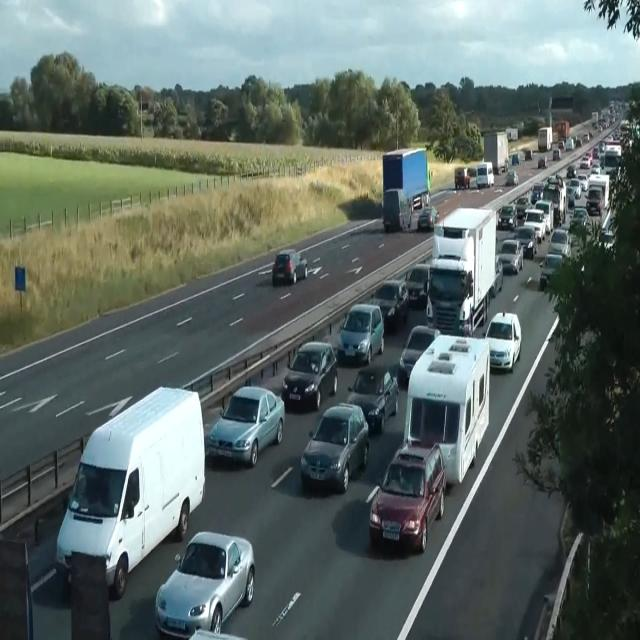bus: (155, 531, 255, 639), (368, 439, 446, 554), (205, 385, 285, 467), (300, 402, 370, 493), (282, 340, 338, 410), (347, 368, 399, 433), (337, 303, 384, 365), (398, 324, 441, 384), (484, 310, 522, 372), (370, 279, 410, 329), (272, 250, 308, 285), (404, 263, 431, 308), (496, 238, 524, 275), (596, 208, 616, 257), (539, 252, 563, 290), (522, 208, 546, 243), (514, 225, 538, 259), (534, 199, 554, 234), (548, 228, 570, 258), (188, 628, 248, 639), (417, 205, 439, 231), (569, 206, 591, 232), (497, 203, 517, 230), (586, 187, 604, 216), (490, 255, 502, 297), (567, 235, 583, 261), (516, 195, 530, 218), (530, 182, 544, 204), (568, 178, 582, 199), (577, 172, 589, 191), (504, 170, 518, 186), (566, 186, 574, 208), (580, 155, 590, 169), (566, 164, 576, 178), (510, 152, 520, 165), (590, 163, 601, 174), (538, 156, 548, 168), (552, 148, 560, 160), (524, 148, 532, 160)
minibus: (55, 385, 205, 599), (404, 334, 490, 486), (426, 206, 496, 336), (382, 147, 431, 232), (543, 173, 567, 225), (481, 131, 509, 174), (476, 161, 494, 188), (538, 126, 552, 151), (554, 120, 570, 140), (505, 126, 518, 142), (591, 111, 597, 126)
